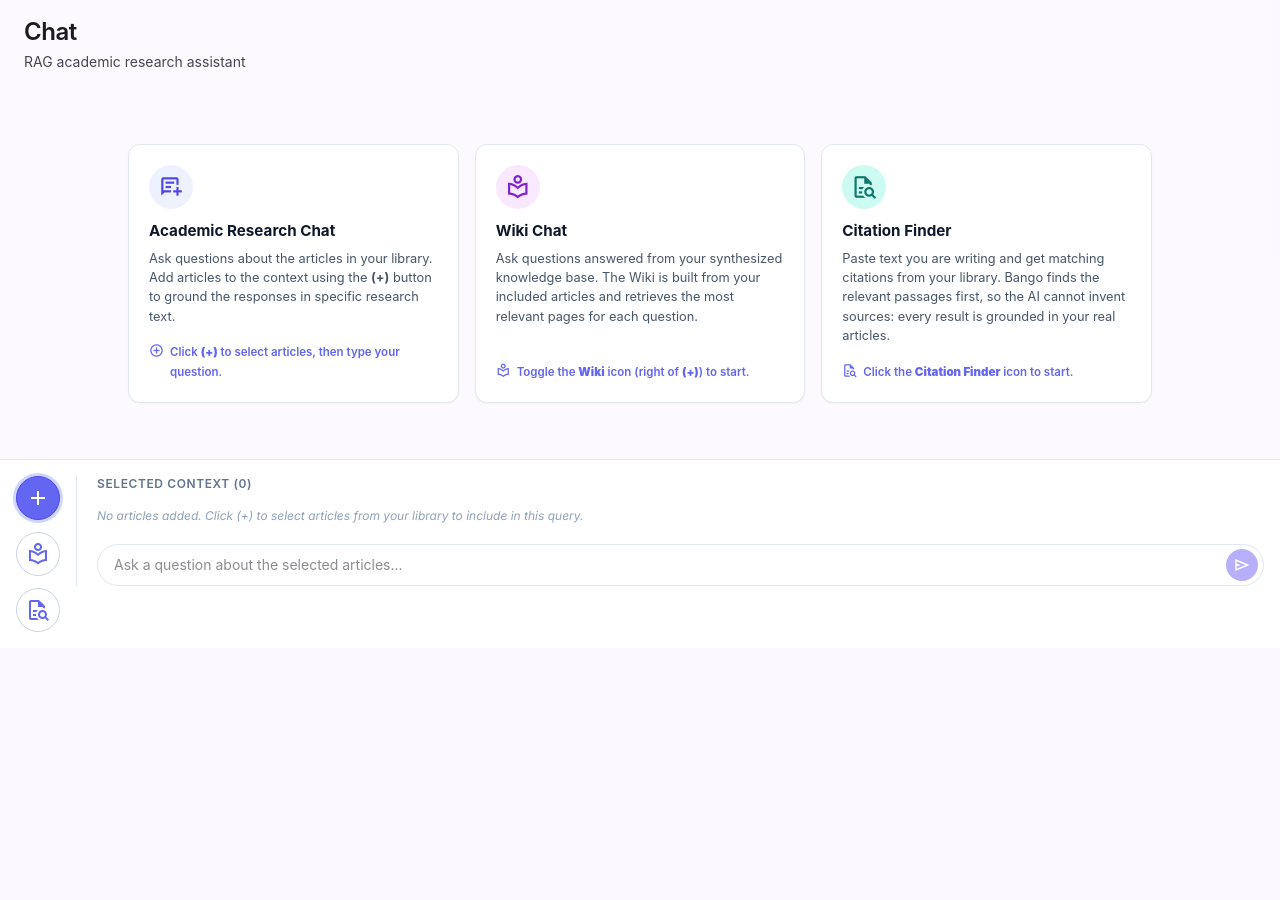
Test: chat-view.vue - article + wiki chat send › sends an article-mode message through send_chat_message and renders both bubbles
Type "What does the evidence say?" into the field with placeholder "Ask a question about the selected articles..." at (680, 565), box x1=97 y1=544 x2=1264 y2=586
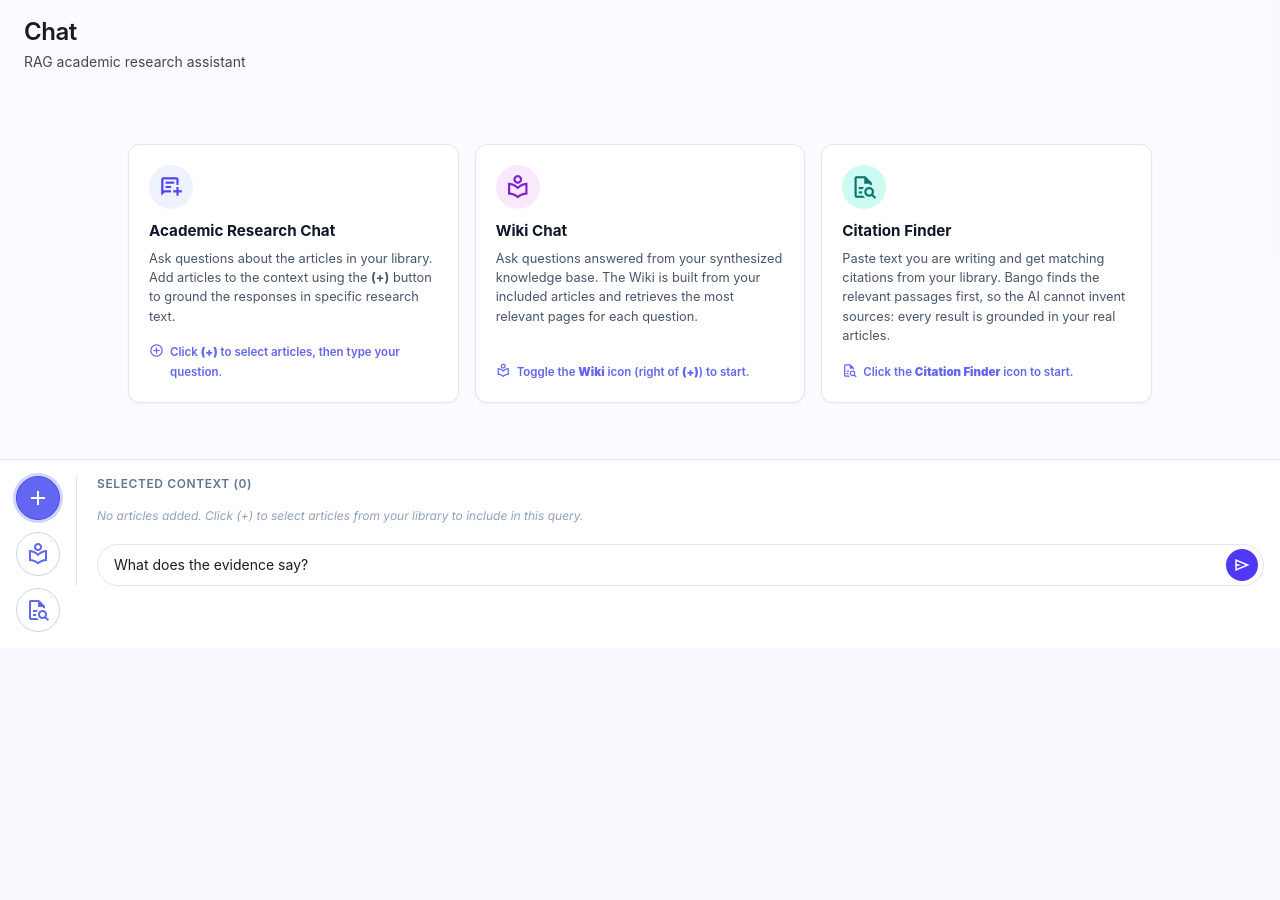
Press Enter in the field, box x1=97 y1=544 x2=1264 y2=586
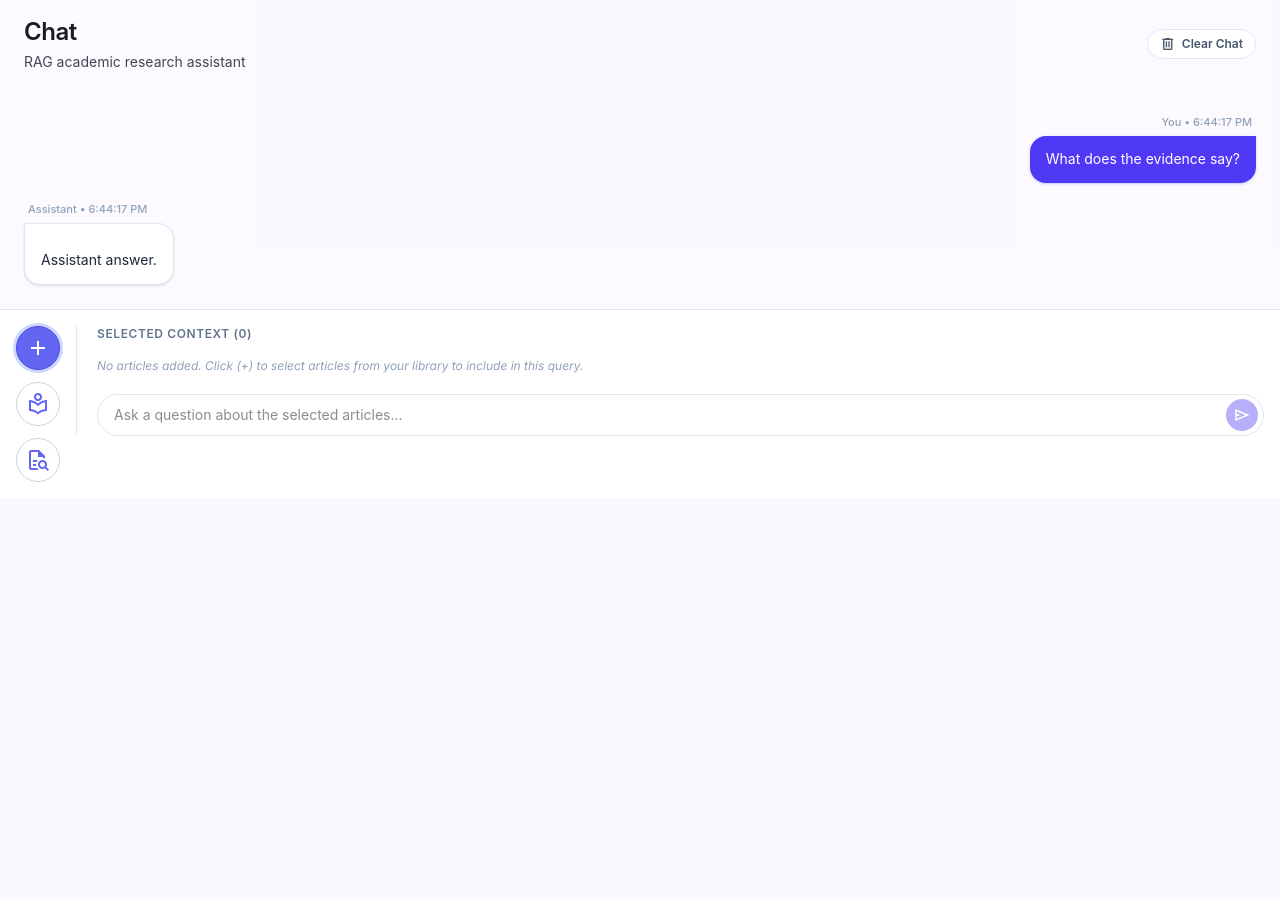
Result: the text "What does the evidence say?" is shown at x1=1046 y1=148 x2=1240 y2=171
Result: the text "Assistant answer." is shown at x1=41 y1=248 x2=157 y2=272
